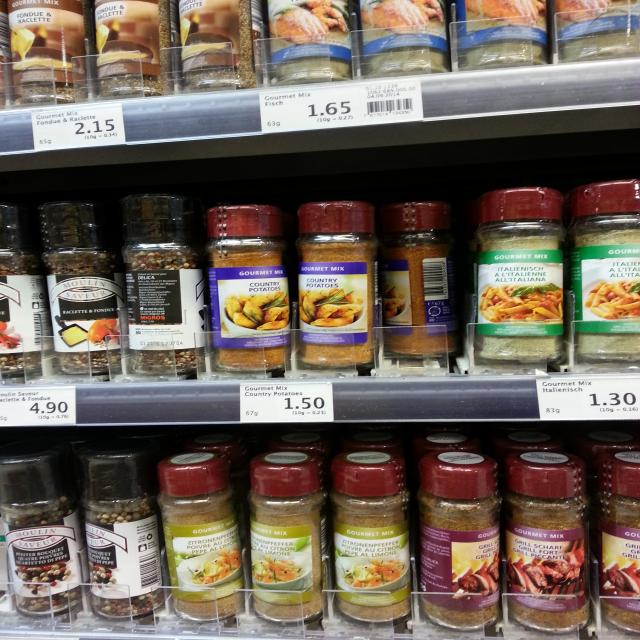Spices: (473, 185, 568, 365), (118, 191, 206, 373), (504, 449, 589, 635), (36, 199, 125, 376), (418, 448, 500, 631), (157, 451, 244, 623), (247, 449, 331, 626), (206, 204, 292, 372), (0, 441, 82, 617), (84, 442, 163, 618), (296, 200, 376, 368), (334, 449, 410, 623), (570, 179, 640, 363), (378, 199, 459, 355), (5, 0, 88, 108), (177, 0, 267, 92), (94, 0, 176, 99), (0, 200, 44, 374), (266, 0, 354, 84), (600, 449, 640, 632), (451, 0, 546, 71), (360, 0, 447, 76)
